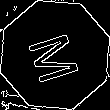M_E: (24, 25, 86, 85)
